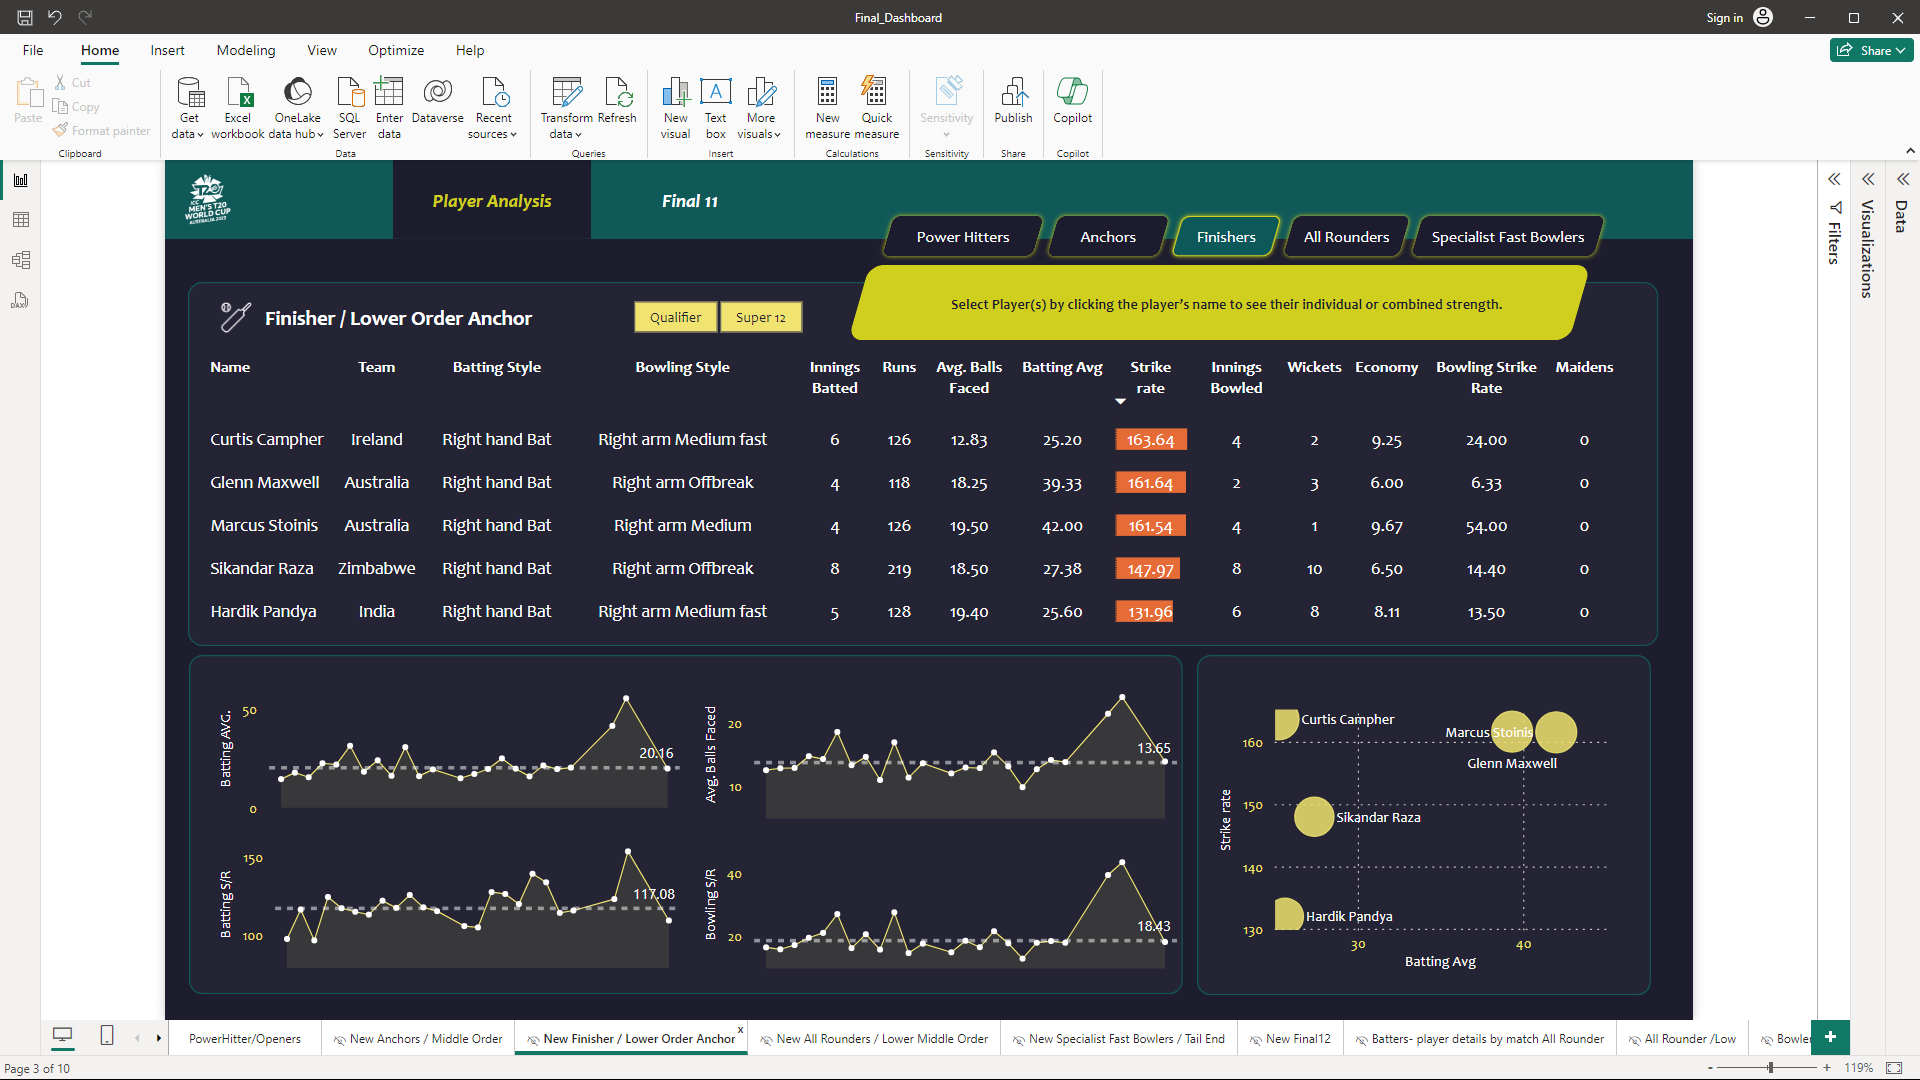

This screenshot's page, from the dashboard's own definition file:
{"tool":"powerbi","page":{"name":"New All Rounders / Lower Middle Order","canvas":[1280,720],"ordinal":3},"visuals":[{"type":"shape","box":[0,66,1280,654],"z":0},{"type":"card","fields":{"Values":["Key_Measures.Strike rate"]},"box":[867,89,93,60],"z":0,"group":"g2"},{"type":"shape","box":[83.7,116.3,260,31.2],"z":0,"group":"g1"},{"type":"card","fields":{"Values":["Key_Measures.Bat Avg"]},"box":[768,89,92,60],"z":1000,"group":"g2"},{"type":"image","box":[37.5,113.8,44,36],"z":1000,"group":"g1"},{"type":"shape","box":[20,414.4,832.2,283.3],"z":1000},{"type":"actionButton","box":[734,42.6,111,42],"z":2000},{"type":"card","fields":{"Values":["Key_Measures.Bowling Strike Rate"]},"box":[1073,89,100,60],"z":2000,"group":"g2"},{"type":"actionButton","box":[596,42.6,144,42],"z":3000},{"type":"card","fields":{"Values":["Key_Measures.Economy"]},"box":[966,89,101,60],"z":3000,"group":"g2"},{"type":"actionButton","box":[838,42.6,101,42],"z":4000},{"type":"actionButton","box":[932,42.6,115,42],"z":5000},{"type":"actionButton","box":[1039,42.6,171,42],"z":6000},{"type":"image","box":[26.5,3.9,48,58.8],"z":7000},{"type":"shape","box":[20,102.2,1236.7,304.4],"z":9000},{"type":"group","id":"g1","title":"Group 2","box":[37.5,113.8,306.2,35],"z":10000},{"type":"slicer","fields":{"Values":["dim_match_summary.stage"]},"box":[366.7,111.1,191.1,38.9],"z":11000},{"type":"tableEx","fields":{"Values":["dim_player.name","Min(dim_player.team)","Min(dim_player.Batting Style)","Min(dim_player.Bowling Style)","Key_Measures.Total Innings Batted","Key_Measures.Total Runs","Key_Measures.Bat Avg","Key_Measures.Strike rate","Key_Measures.Total Innings Bowled","Key_Measures.Balls Bowled","Key_Measures.wickets","Key_Measures.Economy"]},"box":[26,151,1231,255],"z":12000},{"type":"shape","box":[572,88,622,63],"z":13000},{"type":"shape","box":[591,103,173,34],"z":14000},{"type":"group","id":"g2","title":"Combined Perfoamce Metrices","box":[768,89,405,60],"z":15000},{"type":"scatterChart","fields":{"Category":["dim_player.name"],"X":["Key_Measures.Bowling Strike Rate"],"Y":["Key_Measures.Economy"],"Size":["Key_Measures.Total Runs"]},"box":[874.4,427,370,254],"z":16000},{"type":"actionButton","title":"Button Player Ana selected","box":[191,0,166,66],"z":17000},{"type":"actionButton","title":"Button Player Ana selected","box":[357,0,166,66],"z":18000},{"type":"shape","box":[612,100,560,36],"z":19000},{"type":"shape","box":[859.5,414.3,396.7,283.1],"z":20000},{"type":"areaChart","fields":{"Category":["dim_match_summary.Match_Date.Variation.Date Hierarchy.Day"],"Y":["Key_Measures.Economy"]},"box":[446,430,406,126],"z":21000},{"type":"areaChart","fields":{"Category":["dim_match_summary.Match_Date.Variation.Date Hierarchy.Day"],"Y":["Key_Measures.Bowling Strike Rate"]},"box":[446,556,406,126],"z":22000},{"type":"areaChart","fields":{"Category":["dim_match_summary.Match_Date.Variation.Date Hierarchy.Day"],"Y":["Key_Measures.Bat Avg"]},"box":[40,428.9,395.6,126.7],"z":23000},{"type":"areaChart","fields":{"Category":["dim_match_summary.Match_Date.Variation.Date Hierarchy.Day"],"Y":["Key_Measures.Strike rate"]},"box":[40,555.6,396.7,125.6],"z":24000}]}

Visuals, with their boxes on the page's 1280x720 design canvas (x1, y1, x2, y2). These are canvas units, not pixel positions in the 1920x1080 screenshot, which may show the page scaled, cropped or inside an application window:
shape: <region>0, 66, 1280, 720</region>
card - Key_Measures.Strike rate: <region>867, 89, 960, 149</region>
shape: <region>84, 116, 344, 148</region>
card - Key_Measures.Bat Avg: <region>768, 89, 860, 149</region>
image: <region>38, 114, 82, 150</region>
shape: <region>20, 414, 852, 698</region>
actionButton: <region>734, 43, 845, 85</region>
card - Key_Measures.Bowling Strike Rate: <region>1073, 89, 1173, 149</region>
actionButton: <region>596, 43, 740, 85</region>
card - Key_Measures.Economy: <region>966, 89, 1067, 149</region>
actionButton: <region>838, 43, 939, 85</region>
actionButton: <region>932, 43, 1047, 85</region>
actionButton: <region>1039, 43, 1210, 85</region>
image: <region>26, 4, 74, 63</region>
shape: <region>20, 102, 1257, 407</region>
"Group 2" group: <region>38, 114, 344, 149</region>
slicer - dim_match_summary.stage: <region>367, 111, 558, 150</region>
tableEx - dim_player.name x Min(dim_player.team): <region>26, 151, 1257, 406</region>
shape: <region>572, 88, 1194, 151</region>
shape: <region>591, 103, 764, 137</region>
"Combined Perfoamce Metrices" group: <region>768, 89, 1173, 149</region>
scatterChart - dim_player.name x Key_Measures.Bowling Strike Rate: <region>874, 427, 1244, 681</region>
"Button Player Ana selected" actionButton: <region>191, 0, 357, 66</region>
"Button Player Ana selected" actionButton: <region>357, 0, 523, 66</region>
shape: <region>612, 100, 1172, 136</region>
shape: <region>860, 414, 1256, 697</region>
areaChart - dim_match_summary.Match_Date.Variation.Date Hierarchy.Day x Key_Measures.Economy: <region>446, 430, 852, 556</region>
areaChart - dim_match_summary.Match_Date.Variation.Date Hierarchy.Day x Key_Measures.Bowling Strike Rate: <region>446, 556, 852, 682</region>
areaChart - dim_match_summary.Match_Date.Variation.Date Hierarchy.Day x Key_Measures.Bat Avg: <region>40, 429, 436, 556</region>
areaChart - dim_match_summary.Match_Date.Variation.Date Hierarchy.Day x Key_Measures.Strike rate: <region>40, 556, 437, 681</region>
